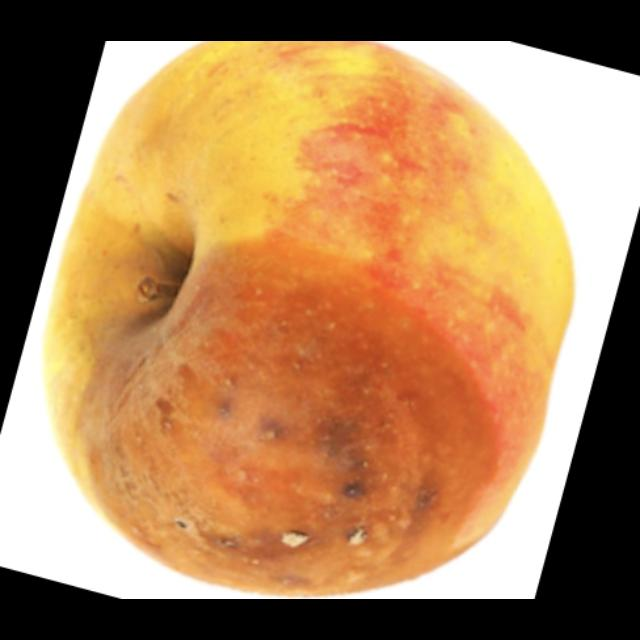Apel Tidak Segar: (35, 51, 589, 596)
